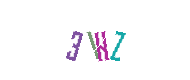1: (54, 0, 134, 80)
3: (49, 0, 129, 80)
K: (54, 0, 134, 80)
Z: (77, 0, 157, 80)
